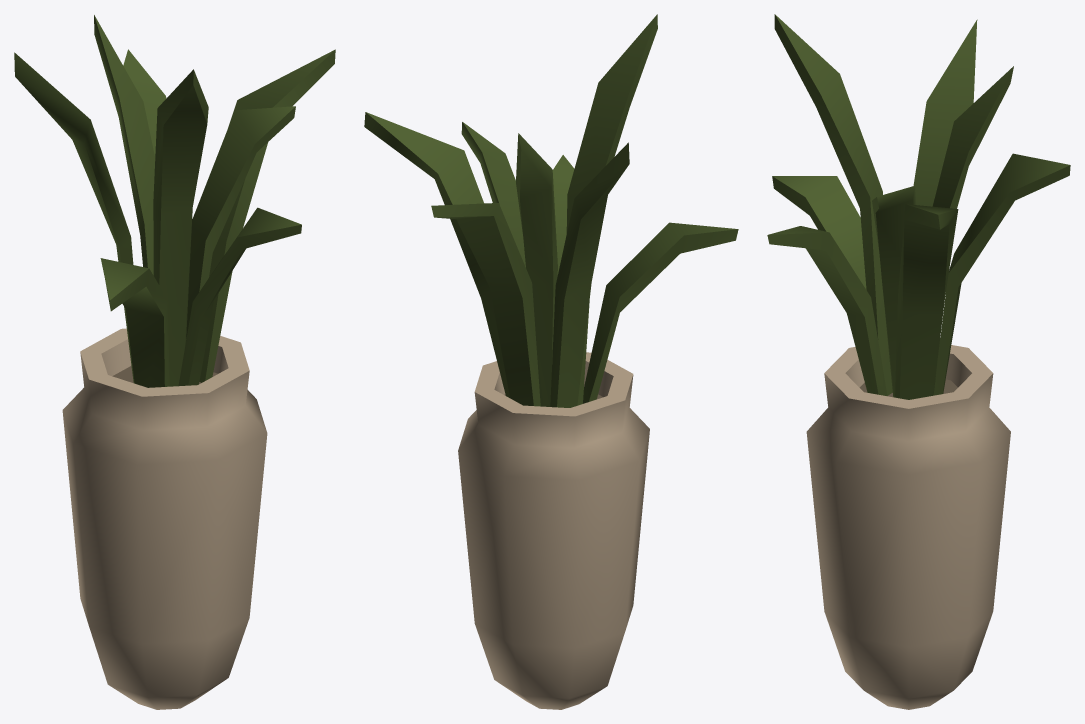
The model's file is SM_Prop_Plant_17.obj.
The picture shows the model from 3 angles, left to right: view 1: azimuth 30°, elevation 25°; view 2: azimuth 150°, elevation 25°; view 3: azimuth 270°, elevation 25°; orthographic projection. The views are drawn at different scales.
Parts seen in each view (by area): view 1: SM_Prop_Plant_17_Mat_SwatchOverlay_PolygonOffice_01_Inst; view 2: SM_Prop_Plant_17_Mat_SwatchOverlay_PolygonOffice_01_Inst; view 3: SM_Prop_Plant_17_Mat_SwatchOverlay_PolygonOffice_01_Inst.
Part boxes in pixels (x1,y1,x2,y2): SM_Prop_Plant_17_Mat_SwatchOverlay_PolygonOffice_01_Inst: (14, 15, 335, 709); SM_Prop_Plant_17_Mat_SwatchOverlay_PolygonOffice_01_Inst: (364, 14, 738, 709); SM_Prop_Plant_17_Mat_SwatchOverlay_PolygonOffice_01_Inst: (767, 14, 1070, 709).
Bounding box in the file's own units: 0.4961 × 1.05 × 0.433.
1 material, 1 textured.
